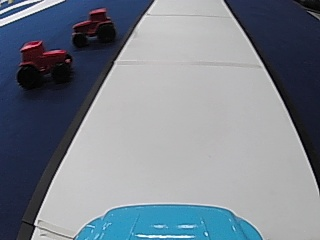Tracktor: (18, 36, 73, 89), (71, 6, 116, 48)
